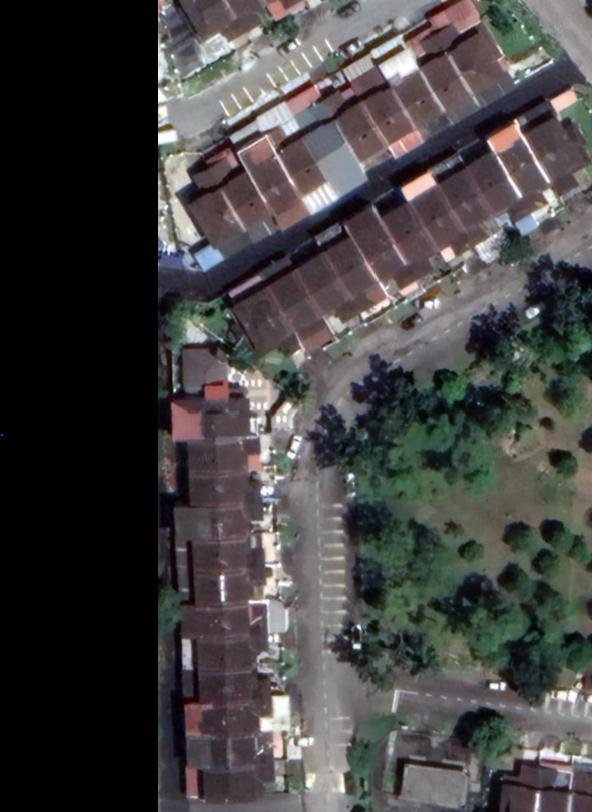building: (432, 16, 524, 116), (510, 95, 592, 205), (337, 201, 416, 294), (411, 29, 480, 132), (263, 268, 341, 354), (232, 130, 299, 220), (297, 118, 366, 203), (226, 286, 301, 362), (376, 198, 438, 284), (459, 152, 528, 228), (291, 253, 360, 327), (207, 154, 269, 235), (432, 170, 494, 251), (407, 185, 471, 260), (319, 238, 380, 316), (492, 138, 552, 217), (178, 340, 253, 402), (169, 398, 260, 445), (328, 100, 387, 168), (189, 599, 271, 647), (356, 85, 415, 151), (387, 68, 443, 135), (269, 136, 325, 203), (185, 571, 278, 611), (186, 436, 264, 480), (185, 469, 265, 510), (184, 508, 266, 548), (192, 637, 273, 677), (197, 703, 277, 743), (196, 770, 280, 808), (197, 740, 276, 778), (188, 541, 267, 577), (193, 674, 276, 707)
